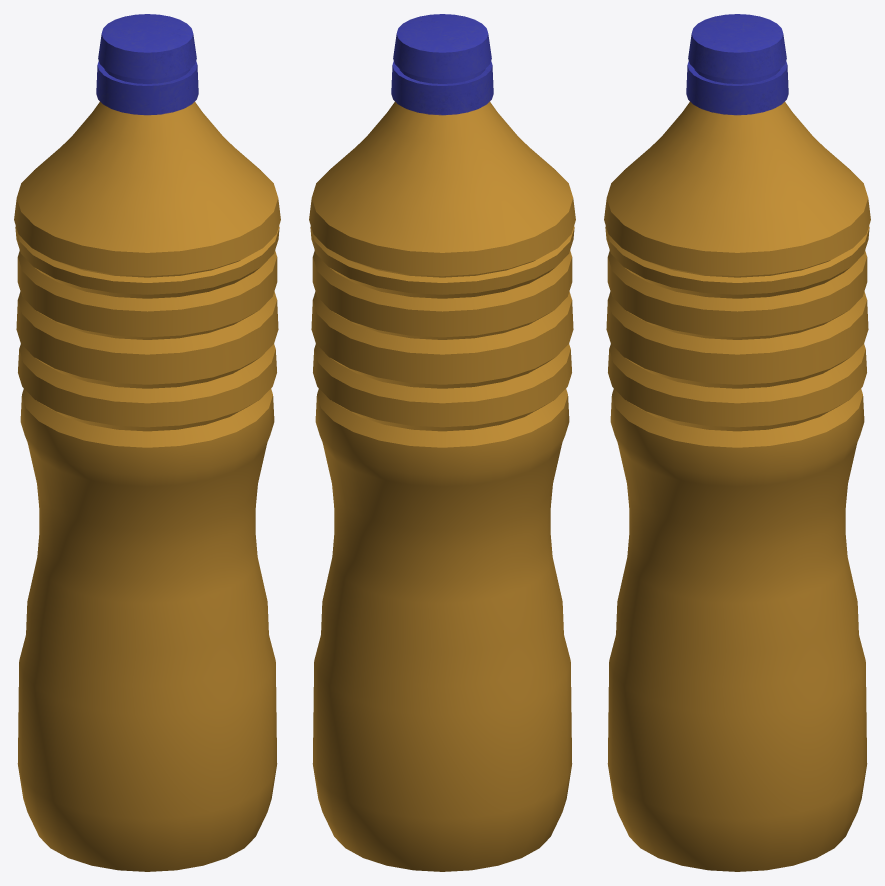
Rendered from oil.glb.
3 views of the same model, side by side, from view 1: azimuth 30°, elevation 25°; view 2: azimuth 150°, elevation 25°; view 3: azimuth 270°, elevation 25° (orthographic).
Parts seen in each view (by area): view 1: oil.001; view 2: oil.001; view 3: oil.001.
Part boxes in pixels (x1,y1,x2,y2): oil.001: (14,14,280,871); oil.001: (309,14,575,871); oil.001: (604,14,870,871).
Size of the model in its own units: 0.0632 by 0.2069 by 0.0632.
1 material, 1 textured.
